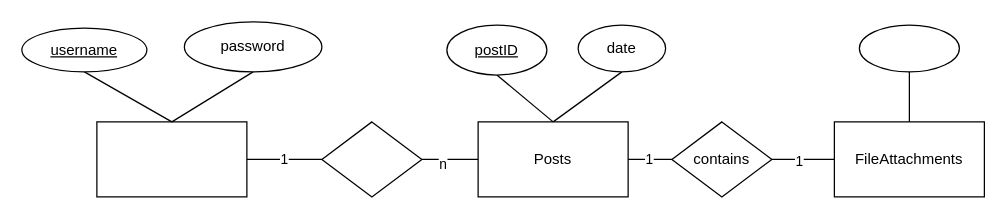
The diagram is 1006 pixels wide and 219 high, and some of its shapes have lost their labels. Here are the shapes that lost their labels. From the top down, the centre of each, then its label:
At [908,48]: "fileID".
At [171,159]: "Users".
At [371,159]: "Creates".
